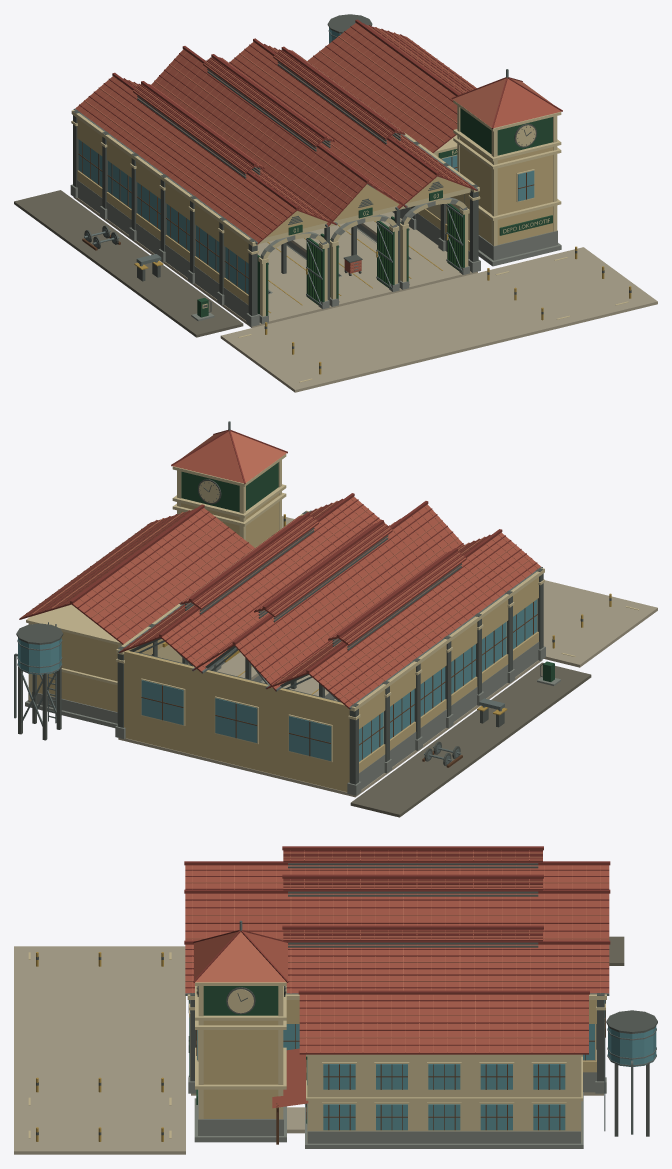
Rendered from riverside-depot-kit.glb.
The picture shows the model from 3 angles, top to bottom: view 1: azimuth 30°, elevation 25°; view 2: azimuth 150°, elevation 25°; view 3: azimuth 270°, elevation 25°; orthographic projection. The views are drawn at different scales.
Parts seen in each view (by area): view 1: GEO-grand-depot-apron, GEO-grand-depot-shed, GEO-grand-depot-clock-tower, GEO-grand-depot-roof-1, GEO-grand-depot-roof-2, GEO-grand-depot-roof-3, GEO-grand-depot-office, GEO-grand-depot-door-1-right, GEO-grand-depot-door-3-right, GEO-grand-depot-door-2-right, GEO-grand-depot-water-tower; view 2: GEO-grand-depot-shed, GEO-grand-depot-office, GEO-grand-depot-roof-1, GEO-grand-depot-roof-2, GEO-grand-depot-apron, GEO-grand-depot-roof-3, GEO-grand-depot-clock-tower, GEO-grand-depot-water-tower; view 3: GEO-grand-depot-office, GEO-grand-depot-apron, GEO-grand-depot-roof-2, GEO-grand-depot-roof-3, GEO-grand-depot-clock-tower, GEO-grand-depot-roof-1, GEO-grand-depot-water-tower, GEO-grand-depot-shed.
Part boxes in pixels (x1,y1,x2,y2): GEO-grand-depot-apron: (14, 190, 657, 392); GEO-grand-depot-shed: (70, 57, 480, 327); GEO-grand-depot-clock-tower: (451, 69, 562, 266); GEO-grand-depot-roof-1: (73, 72, 337, 244); GEO-grand-depot-roof-2: (151, 46, 407, 227); GEO-grand-depot-roof-3: (229, 38, 477, 210); GEO-grand-depot-office: (307, 19, 476, 170); GEO-grand-depot-door-1-right: (306, 238, 324, 306); GEO-grand-depot-door-3-right: (446, 203, 464, 272); GEO-grand-depot-door-2-right: (376, 221, 394, 289); GEO-grand-depot-water-tower: (327, 14, 372, 43); GEO-grand-depot-shed: (115, 510, 545, 797); GEO-grand-depot-office: (19, 504, 254, 727); GEO-grand-depot-roof-1: (265, 529, 542, 709); GEO-grand-depot-roof-2: (192, 501, 463, 691); GEO-grand-depot-apron: (282, 514, 657, 817); GEO-grand-depot-roof-3: (118, 493, 386, 673); GEO-grand-depot-clock-tower: (171, 421, 287, 547); GEO-grand-depot-water-tower: (14, 622, 63, 740); GEO-grand-depot-office: (272, 990, 589, 1148); GEO-grand-depot-apron: (14, 936, 624, 1154); GEO-grand-depot-roof-2: (184, 874, 610, 940); GEO-grand-depot-roof-3: (184, 925, 610, 995); GEO-grand-depot-clock-tower: (193, 920, 288, 1142); GEO-grand-depot-roof-1: (184, 846, 610, 889); GEO-grand-depot-water-tower: (604, 1010, 657, 1136); GEO-grand-depot-shed: (187, 993, 606, 1095).
Bounding box in the file's own units: 32.5 × 14.9 × 41.15.
